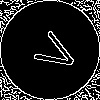V: (25, 25, 82, 77)
